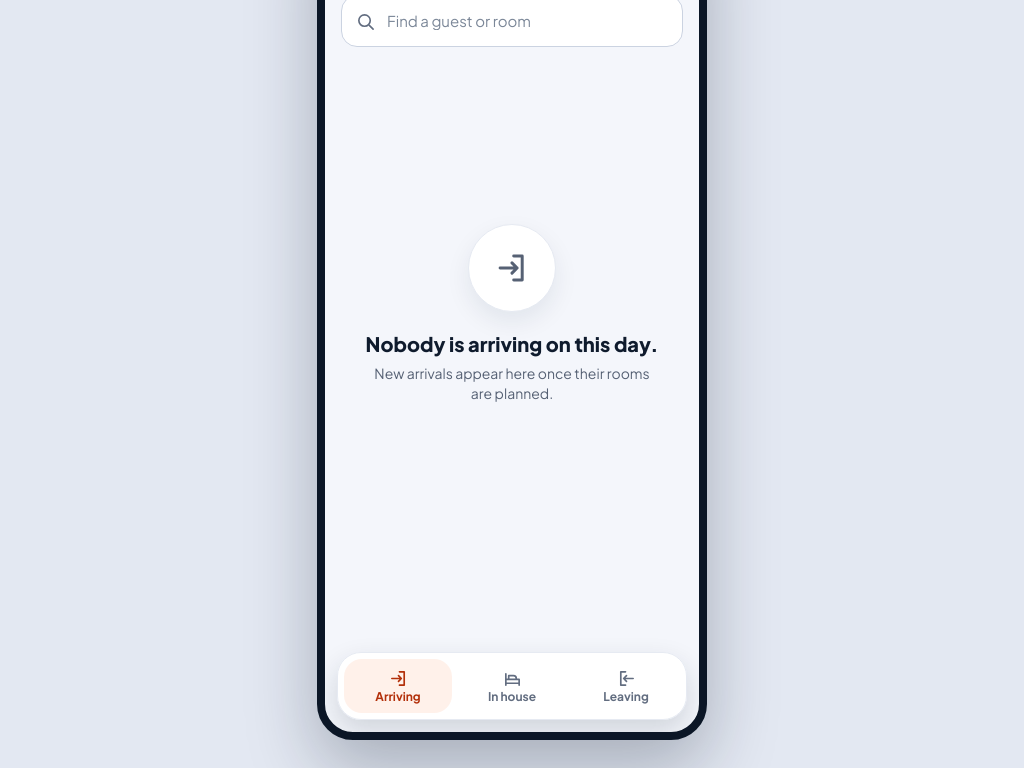
Test: FrontDeskScreen › checks an in-house party out after confirming; the rooms go to housekeeping
This screenshot has width=1024, height=768.
(page scrolled)
Click the button "In house" at [512, 686], box [458,659,566,713]
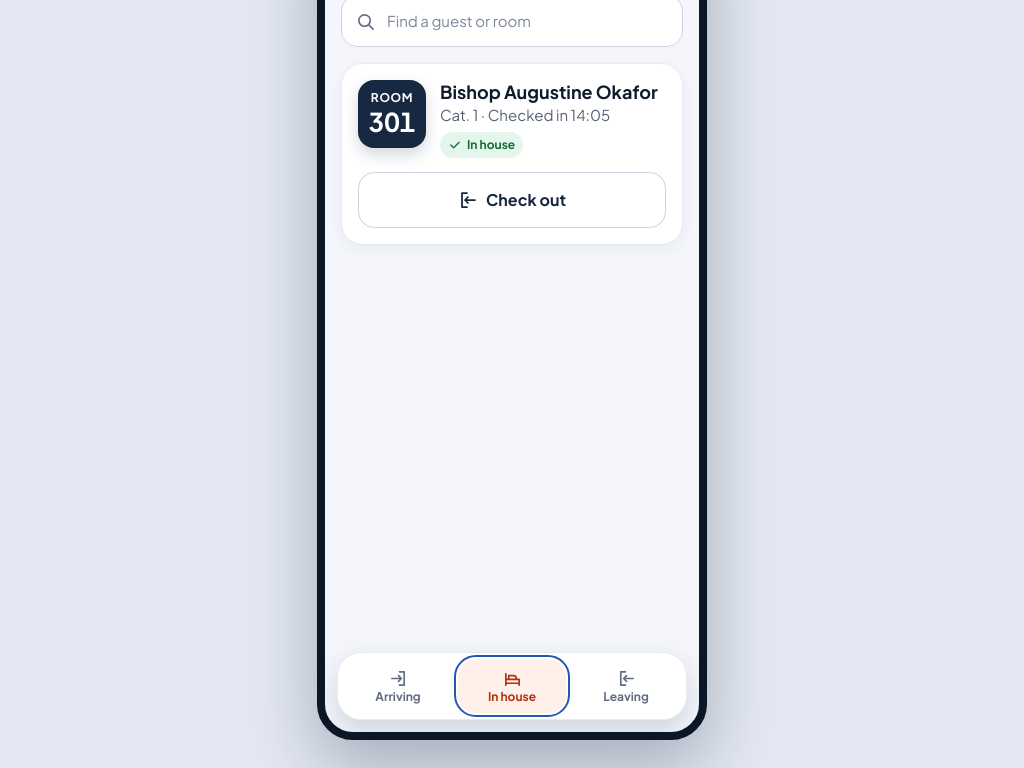
Click the button "Check out" at [512, 200], box [358,172,666,228]
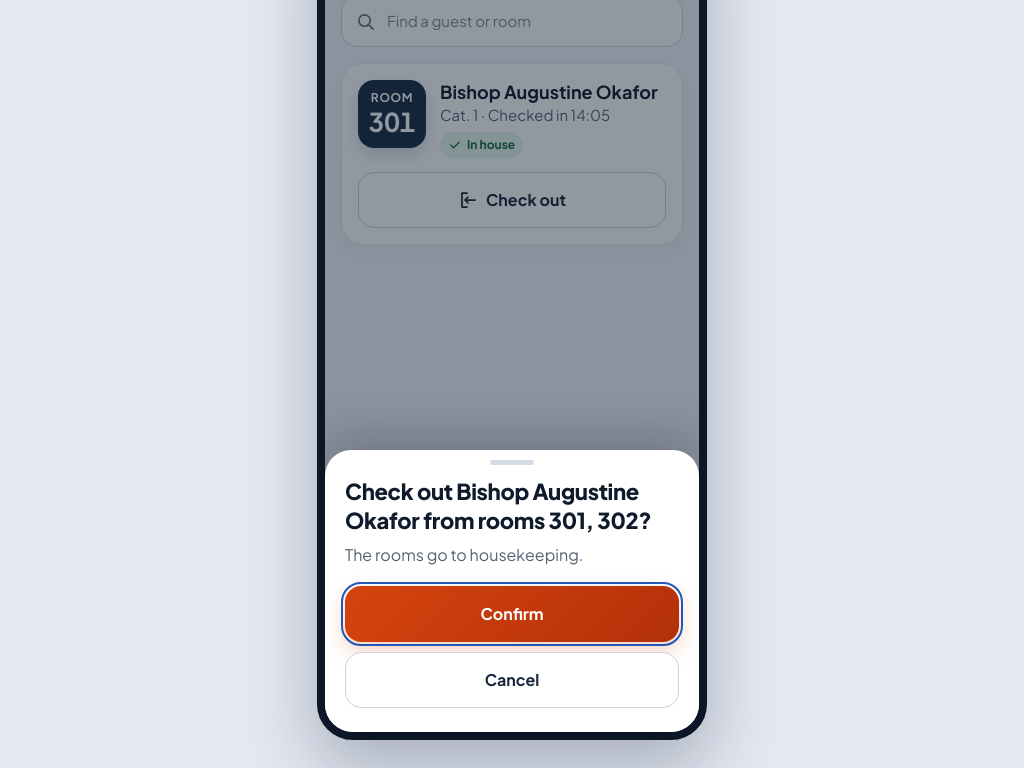
Now the text "The rooms go to housekeeping." is shown, box [345,544,583,565]
Click the button "Confirm" at [512, 614], box [345,586,679,642]
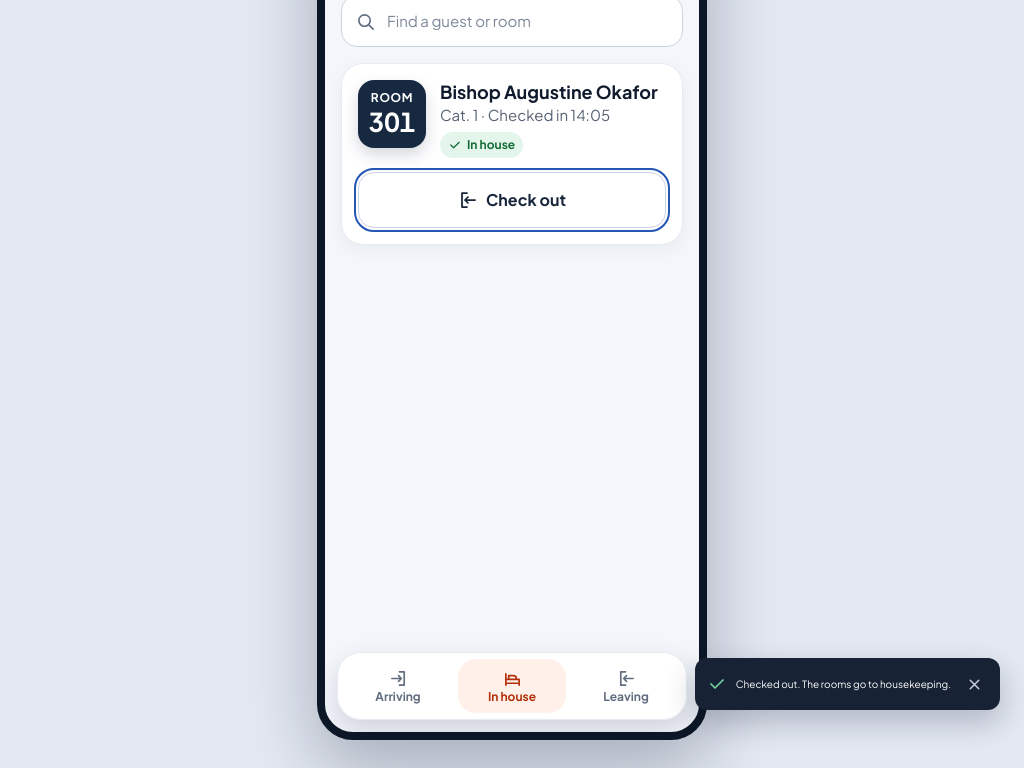
Now the text "Checked out. The rooms go to housekeeping." is shown, box [736,674,951,694]
